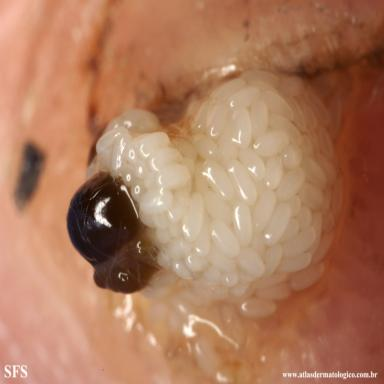Tungiasis: (67, 70, 342, 317), (15, 144, 43, 209)
